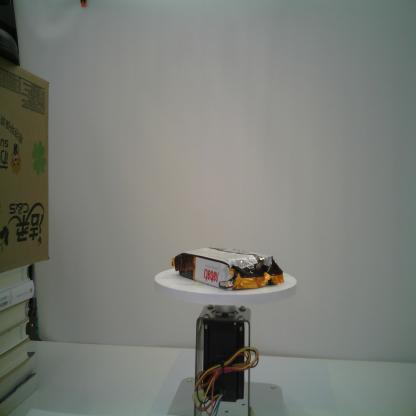Dessert: (171, 244, 285, 291)
